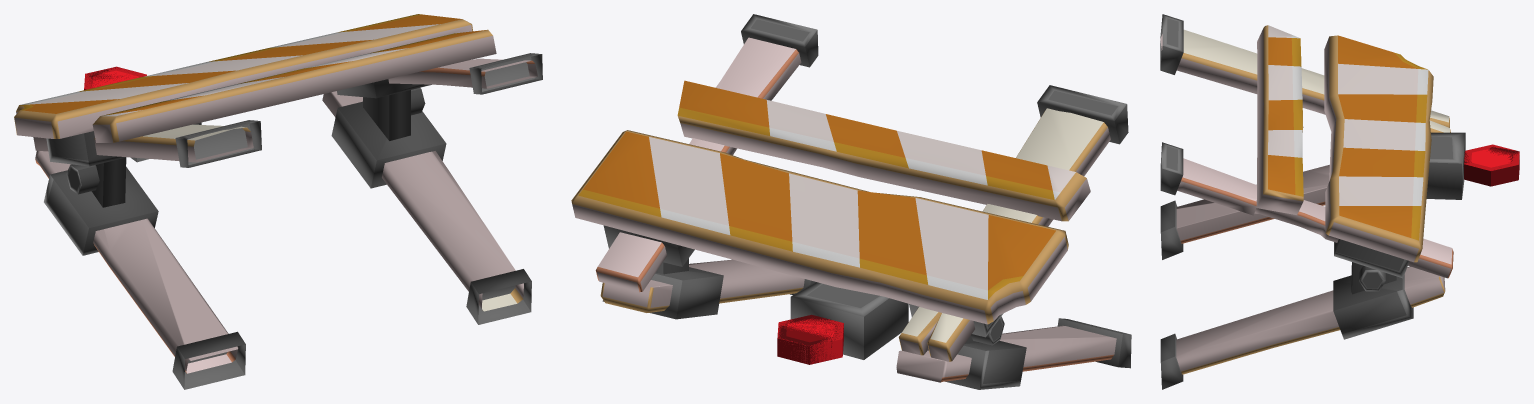
File: ConstructionHorse.fbx
The picture shows the model from 3 angles, left to right: view 1: azimuth 30°, elevation 25°; view 2: azimuth 150°, elevation 25°; view 3: azimuth 270°, elevation 25°; orthographic projection. The views are drawn at different scales.
Parts seen in each view (by area): view 1: horse, light_frame; view 2: horse, dark_frame, light_frame; view 3: horse, dark_frame, light_frame.
Part boxes in pixels (<box>): horse: <box>14,14,542,389</box>; light_frame: <box>84,66,146,90</box>; horse: <box>571,14,1131,389</box>; dark_frame: <box>777,314,841,364</box>; light_frame: <box>777,318,843,364</box>; horse: <box>1160,14,1465,389</box>; dark_frame: <box>1464,146,1519,186</box>; light_frame: <box>1464,144,1519,170</box>.
Bounding box in the file's own units: 87.65 × 51.04 × 73.1.
